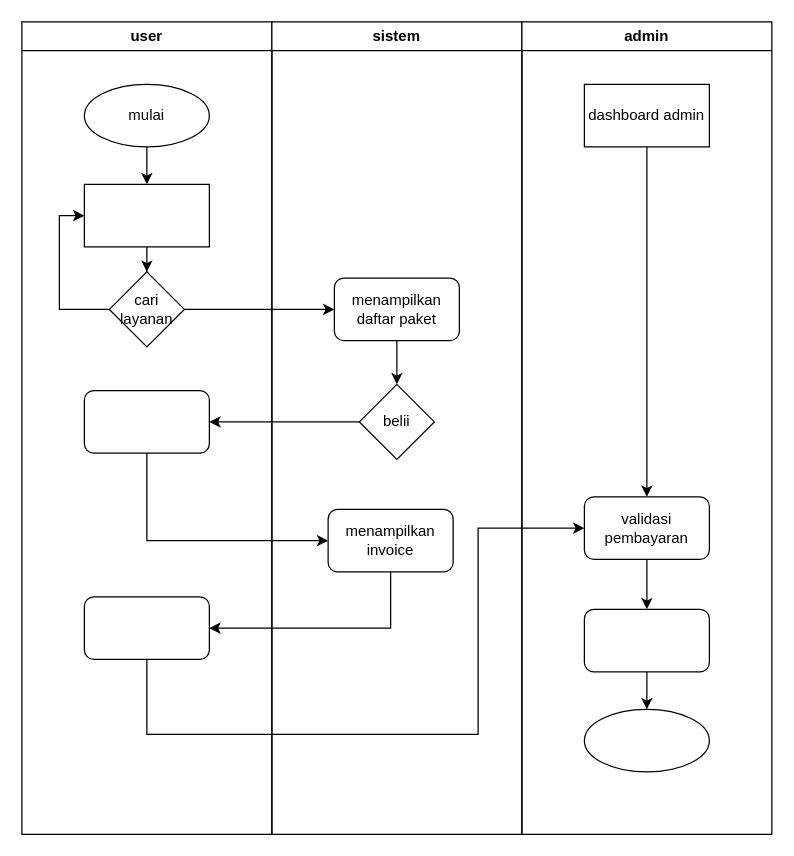
This 794x856 diagram has some shape labels left out. Here are the shapes that lost their labels. From the top down, the box of each, then its label:
(83, 183, 209, 247): tampilan homepage
(83, 389, 209, 453): mengisi data yang diperlukan
(83, 596, 209, 659): melakukan pembayaran
(583, 608, 709, 672): cetak laporan
(583, 708, 709, 772): selesai
